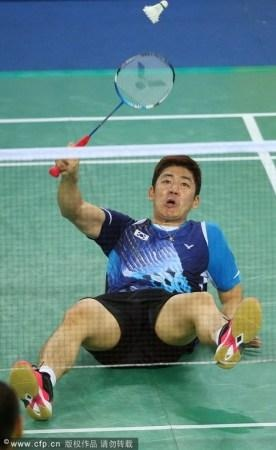falling: (6, 126, 272, 413)
